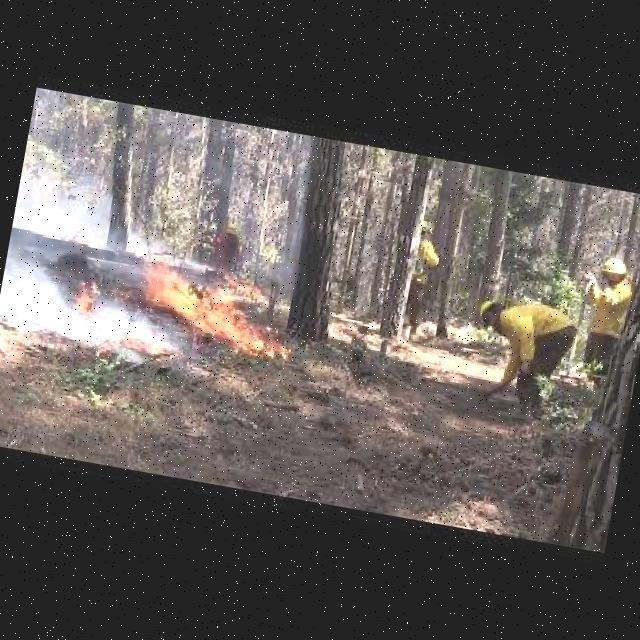Fire: (129, 257, 304, 362), (93, 333, 170, 368), (217, 270, 266, 302), (68, 289, 96, 319)
